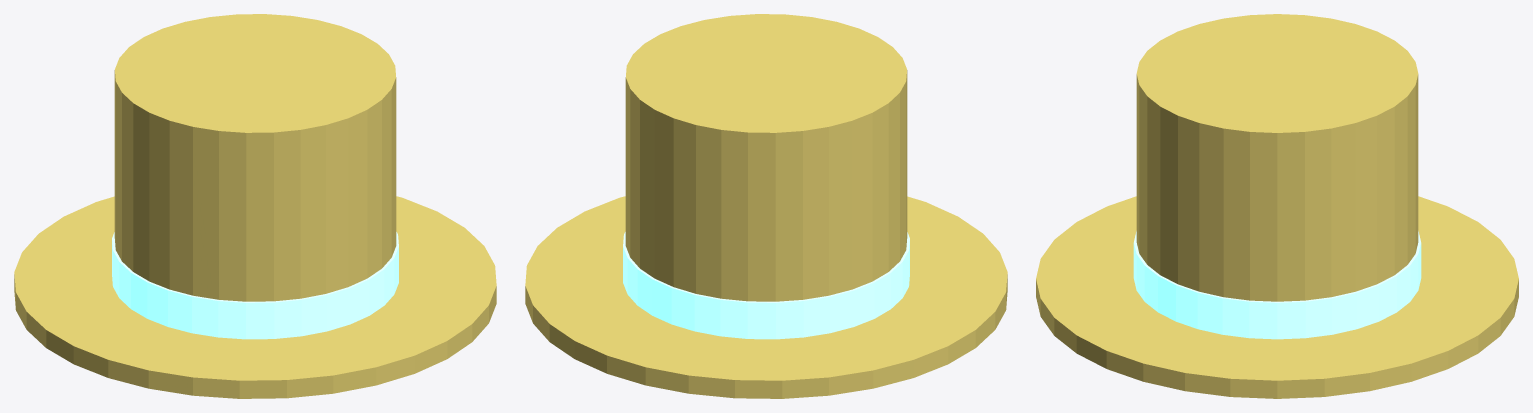
Rendered from SM_DivineHands_CrownHat.glb.
The picture shows the model from 3 angles, left to right: view 1: azimuth 30°, elevation 25°; view 2: azimuth 150°, elevation 25°; view 3: azimuth 270°, elevation 25°; orthographic projection.
Visible parts, largest first — view 1: SM_DivineHands_CrownHat; view 2: SM_DivineHands_CrownHat; view 3: SM_DivineHands_CrownHat.
Part boxes in pixels (left/top/right/bottom): SM_DivineHands_CrownHat: left=14, top=14, right=496, bottom=398; SM_DivineHands_CrownHat: left=525, top=14, right=1007, bottom=398; SM_DivineHands_CrownHat: left=1036, top=14, right=1518, bottom=398.
Bounding box in the file's own units: 0.96 × 0.49 × 0.96.
